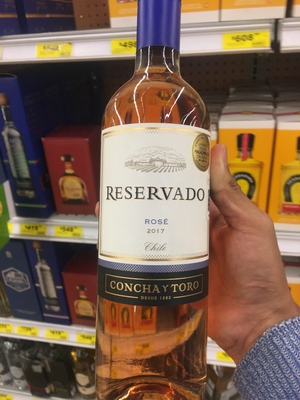reservado rose: (99, 6, 211, 399)
